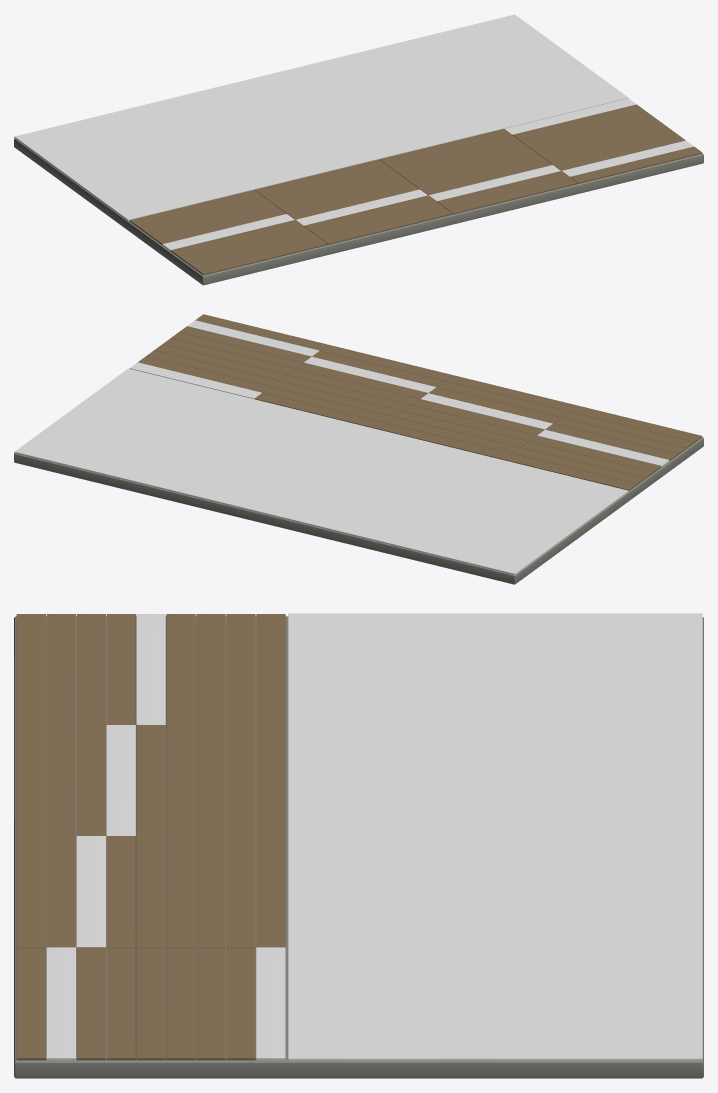
File: Pawnshop_Floor62.fbx
3 renders of one model, top to bottom at view 1: azimuth 30°, elevation 25°; view 2: azimuth 150°, elevation 25°; view 3: azimuth 270°, elevation 25°, orthographic. The views are drawn at different scales.
Visible parts, largest first — view 1: Pawnshop_Floor62; view 2: Pawnshop_Floor62; view 3: Pawnshop_Floor62.
Part boxes in pixels (box(x1,y1,x2,y2)): Pawnshop_Floor62: box(14, 14, 703, 285); Pawnshop_Floor62: box(14, 314, 703, 584); Pawnshop_Floor62: box(14, 613, 703, 1078).
Bounding box in the file's own units: 866 × 18.45 × 566.
